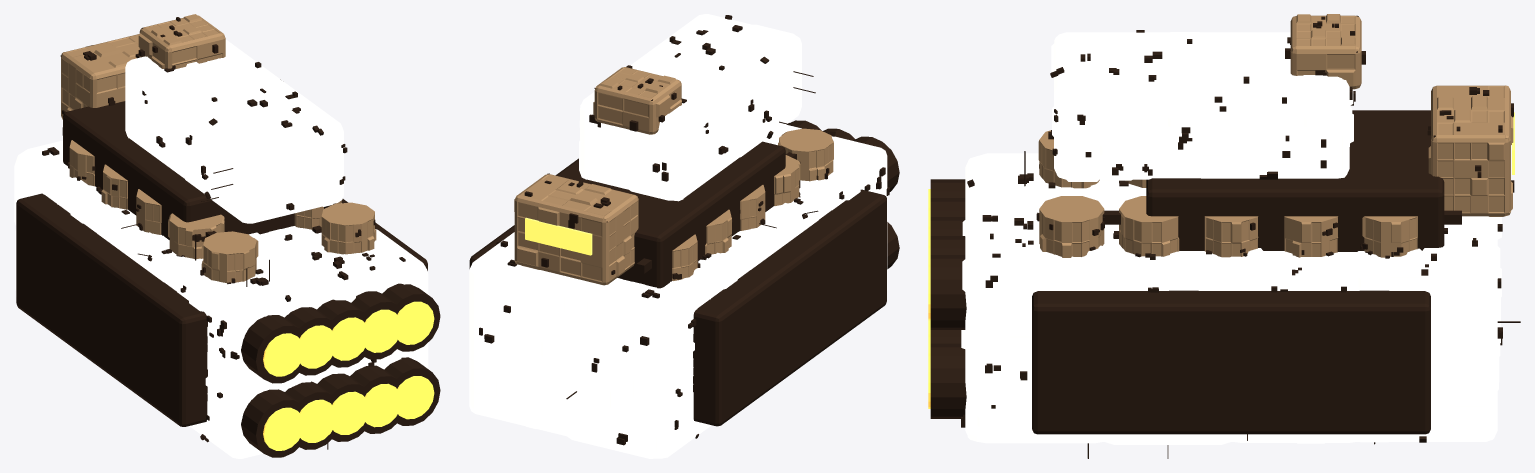
Rendered from gorrath_huge.glb.
3 views of the same model, side by side, from view 1: azimuth 30°, elevation 25°; view 2: azimuth 150°, elevation 25°; view 3: azimuth 270°, elevation 25° (orthographic). The views are drawn at different scales.
Visible parts, largest first — view 1: gorrath_huge; view 2: gorrath_huge; view 3: gorrath_huge.
Part boxes in pixels (bbox=[...]): gorrath_huge: bbox=[14, 14, 440, 458]; gorrath_huge: bbox=[469, 14, 899, 458]; gorrath_huge: bbox=[928, 14, 1520, 458].
Bounding box in the file's own units: 5.84 × 7.31 × 10.1.
